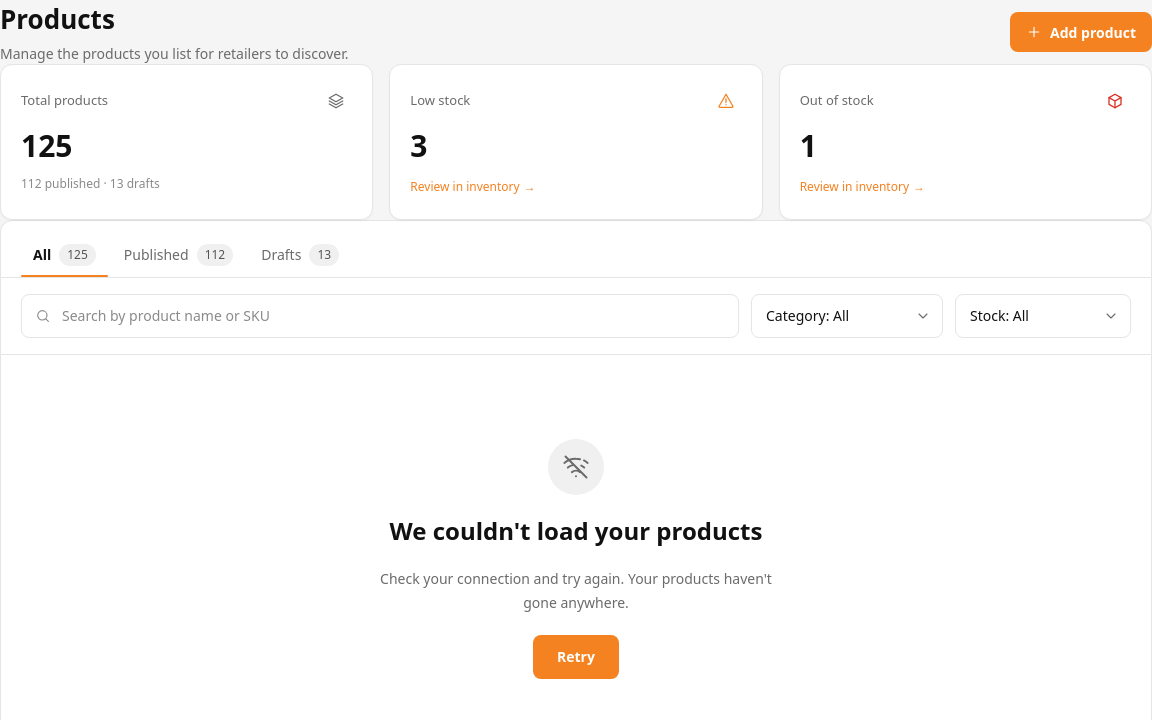
Test: products list › shows the error state with a Retry button and refetches
Check: the heading "We couldn't load your products" is shown, box [390, 514, 762, 546]
Click the button "Retry": (576, 656) [533, 634, 619, 678]
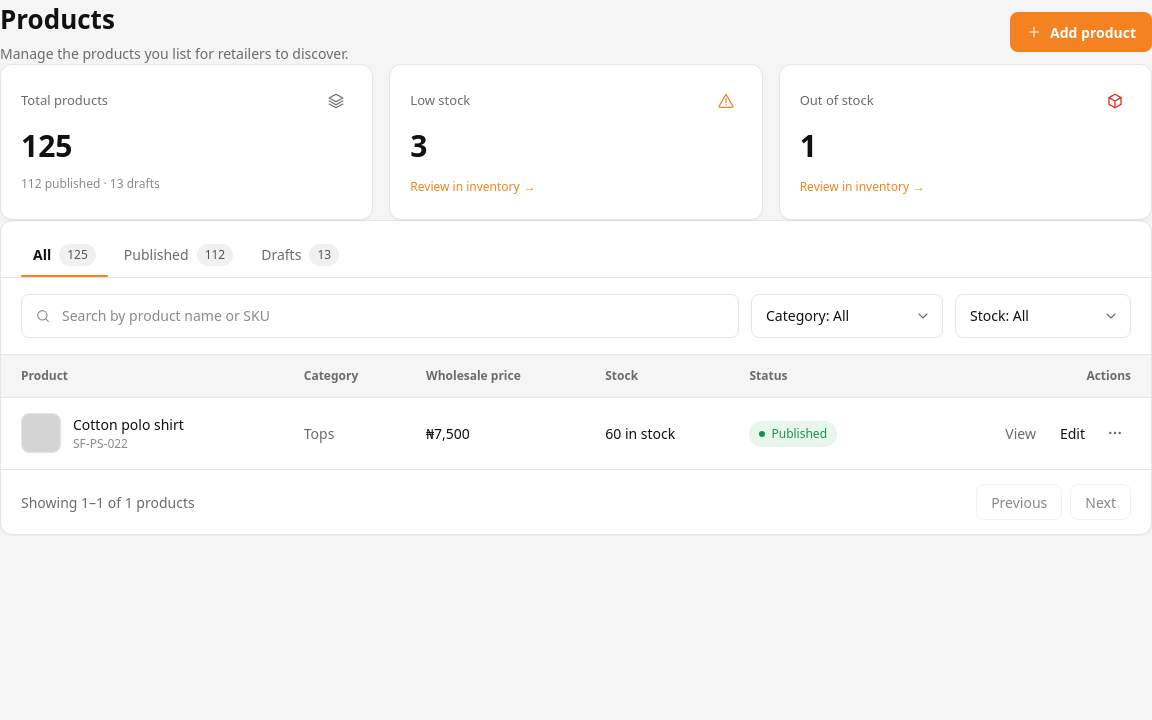
Check: the text "Cotton polo shirt" is shown, box [73, 414, 184, 435]
